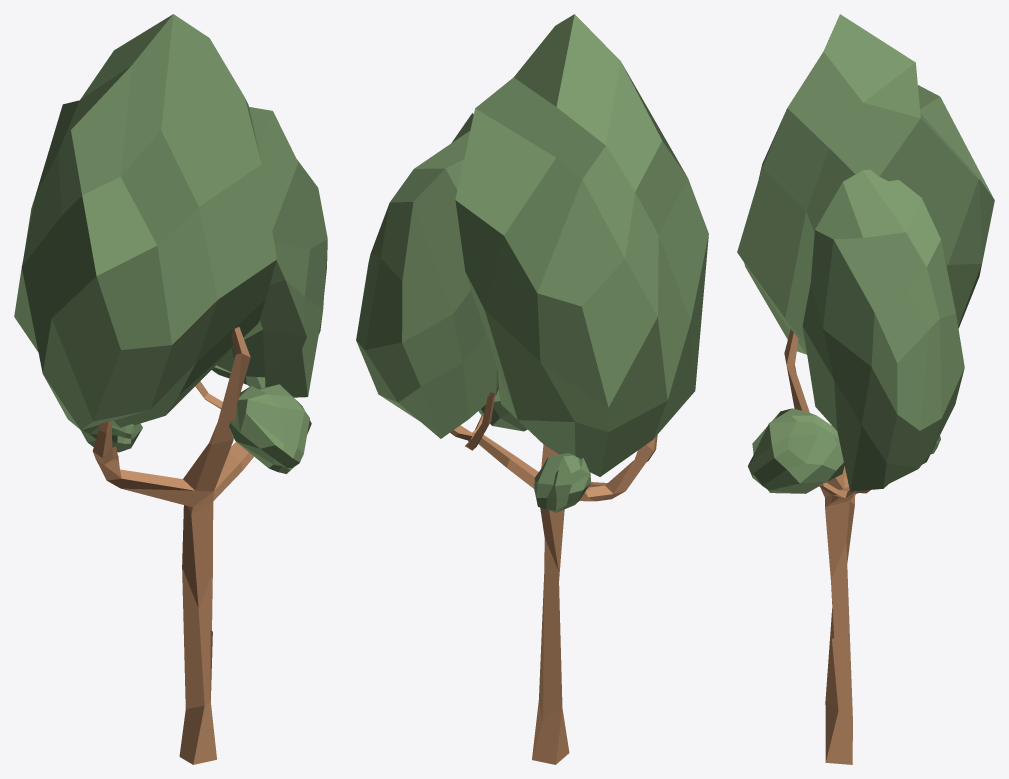
File: ArbolT3.fbx
3 views of the same model, side by side, from view 1: azimuth 30°, elevation 25°; view 2: azimuth 150°, elevation 25°; view 3: azimuth 270°, elevation 25° (orthographic). The views are drawn at different scales.
Parts seen in each view (by area): view 1: Cube, Cube.001, Arbol01, Cube.002, Cube.003; view 2: Cube, Cube.001, Arbol01, Cube.003, Cube.002; view 3: Cube.001, Cube, Arbol01, Cube.002.
Boxes of the visible parts, x1,y1,x2,y2 form: Cube: (14,14,276,429); Cube.001: (212,107,327,397); Arbol01: (92,327,253,764); Cube.002: (229,384,311,473); Cube.003: (80,423,142,452); Cube: (455,14,708,476); Cube.001: (356,113,498,438); Arbol01: (450,392,657,764); Cube.003: (534,453,590,512); Cube.002: (478,390,527,431); Cube.001: (802,169,964,491); Cube: (737,14,994,354); Arbol01: (784,329,870,764); Cube.002: (748,408,844,493).
Bounding box in the file's own units: 1714 × 4078 × 1299.
